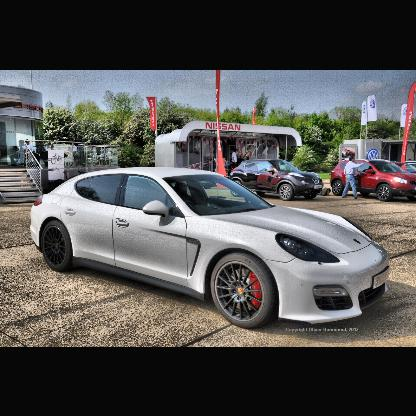Porsche Panamera Sedan 2012: (29, 165, 391, 330)
